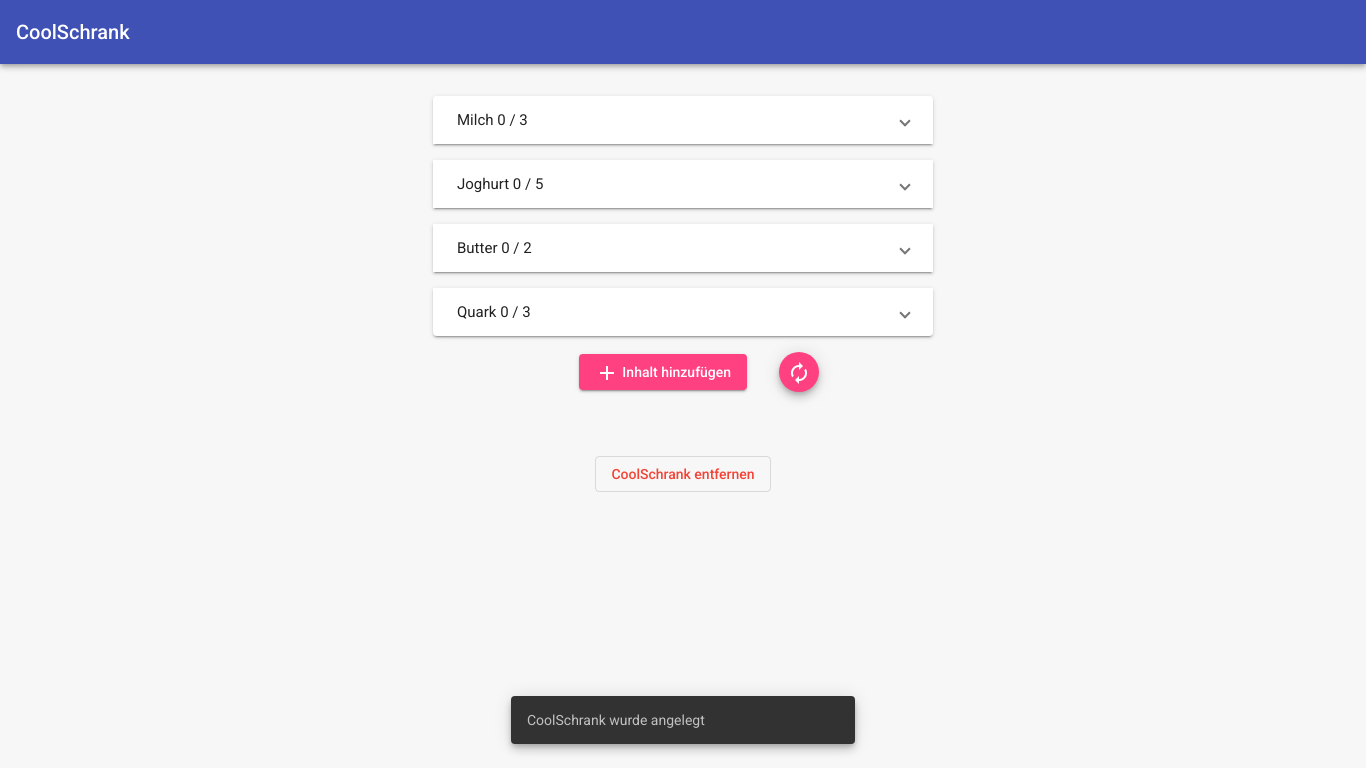
Test case: Press Button add item › should show ItemCreateForm
Click the button "Inhalt hinzufügen" at (663, 372), box [579,354,747,390]
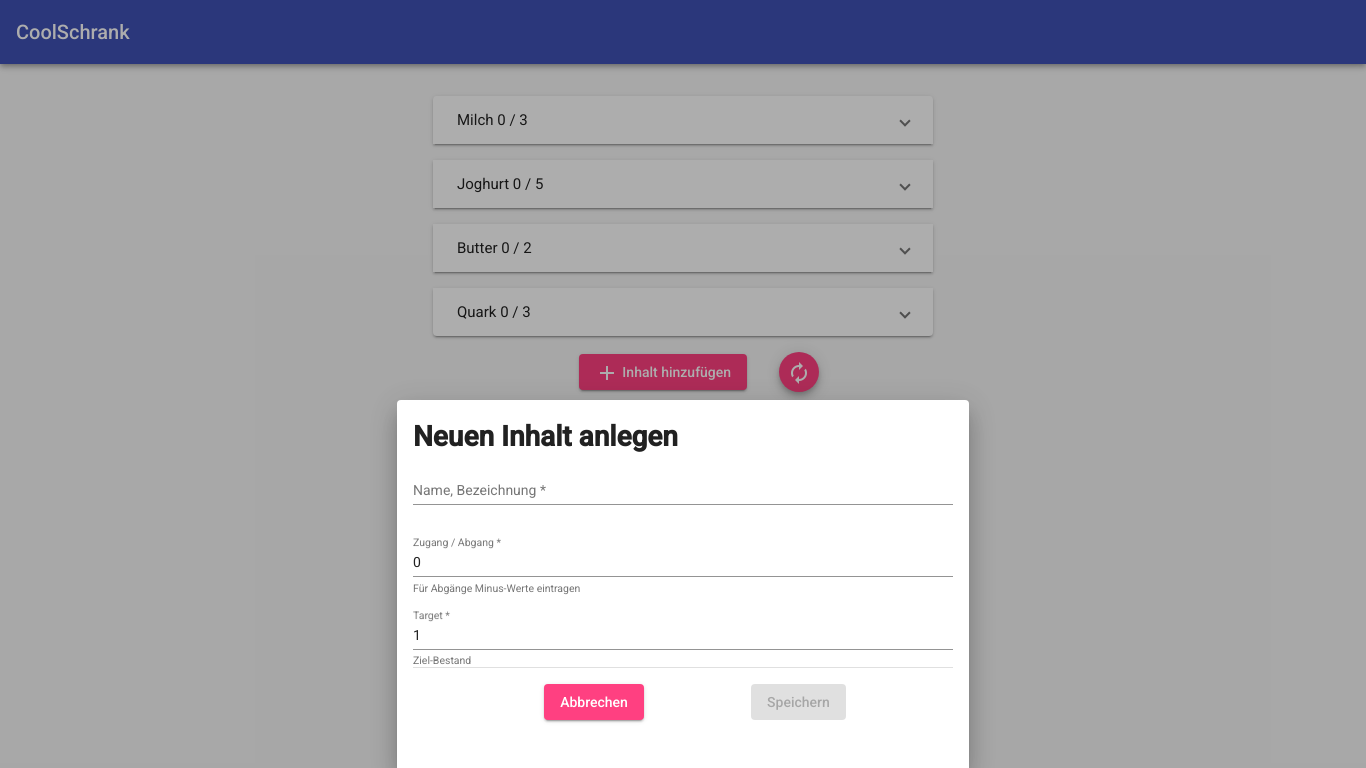
Check: the heading "Neuen Inhalt anlegen" is shown, box [413,420,678,453]
